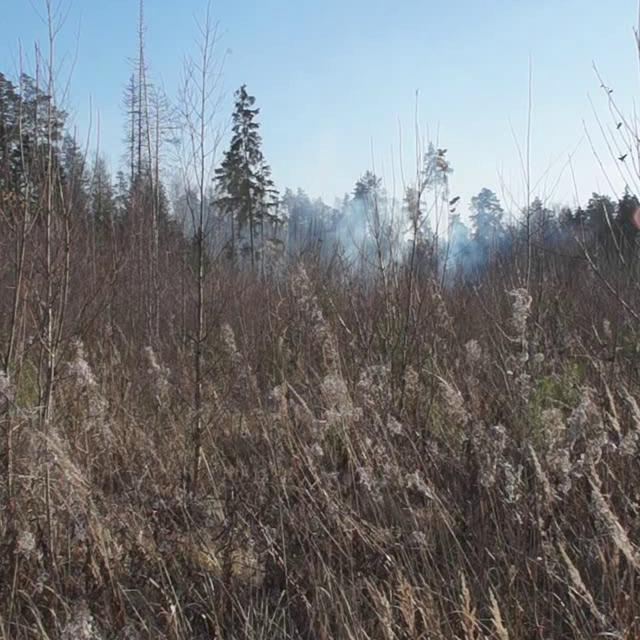Smoke: (165, 146, 517, 292)
